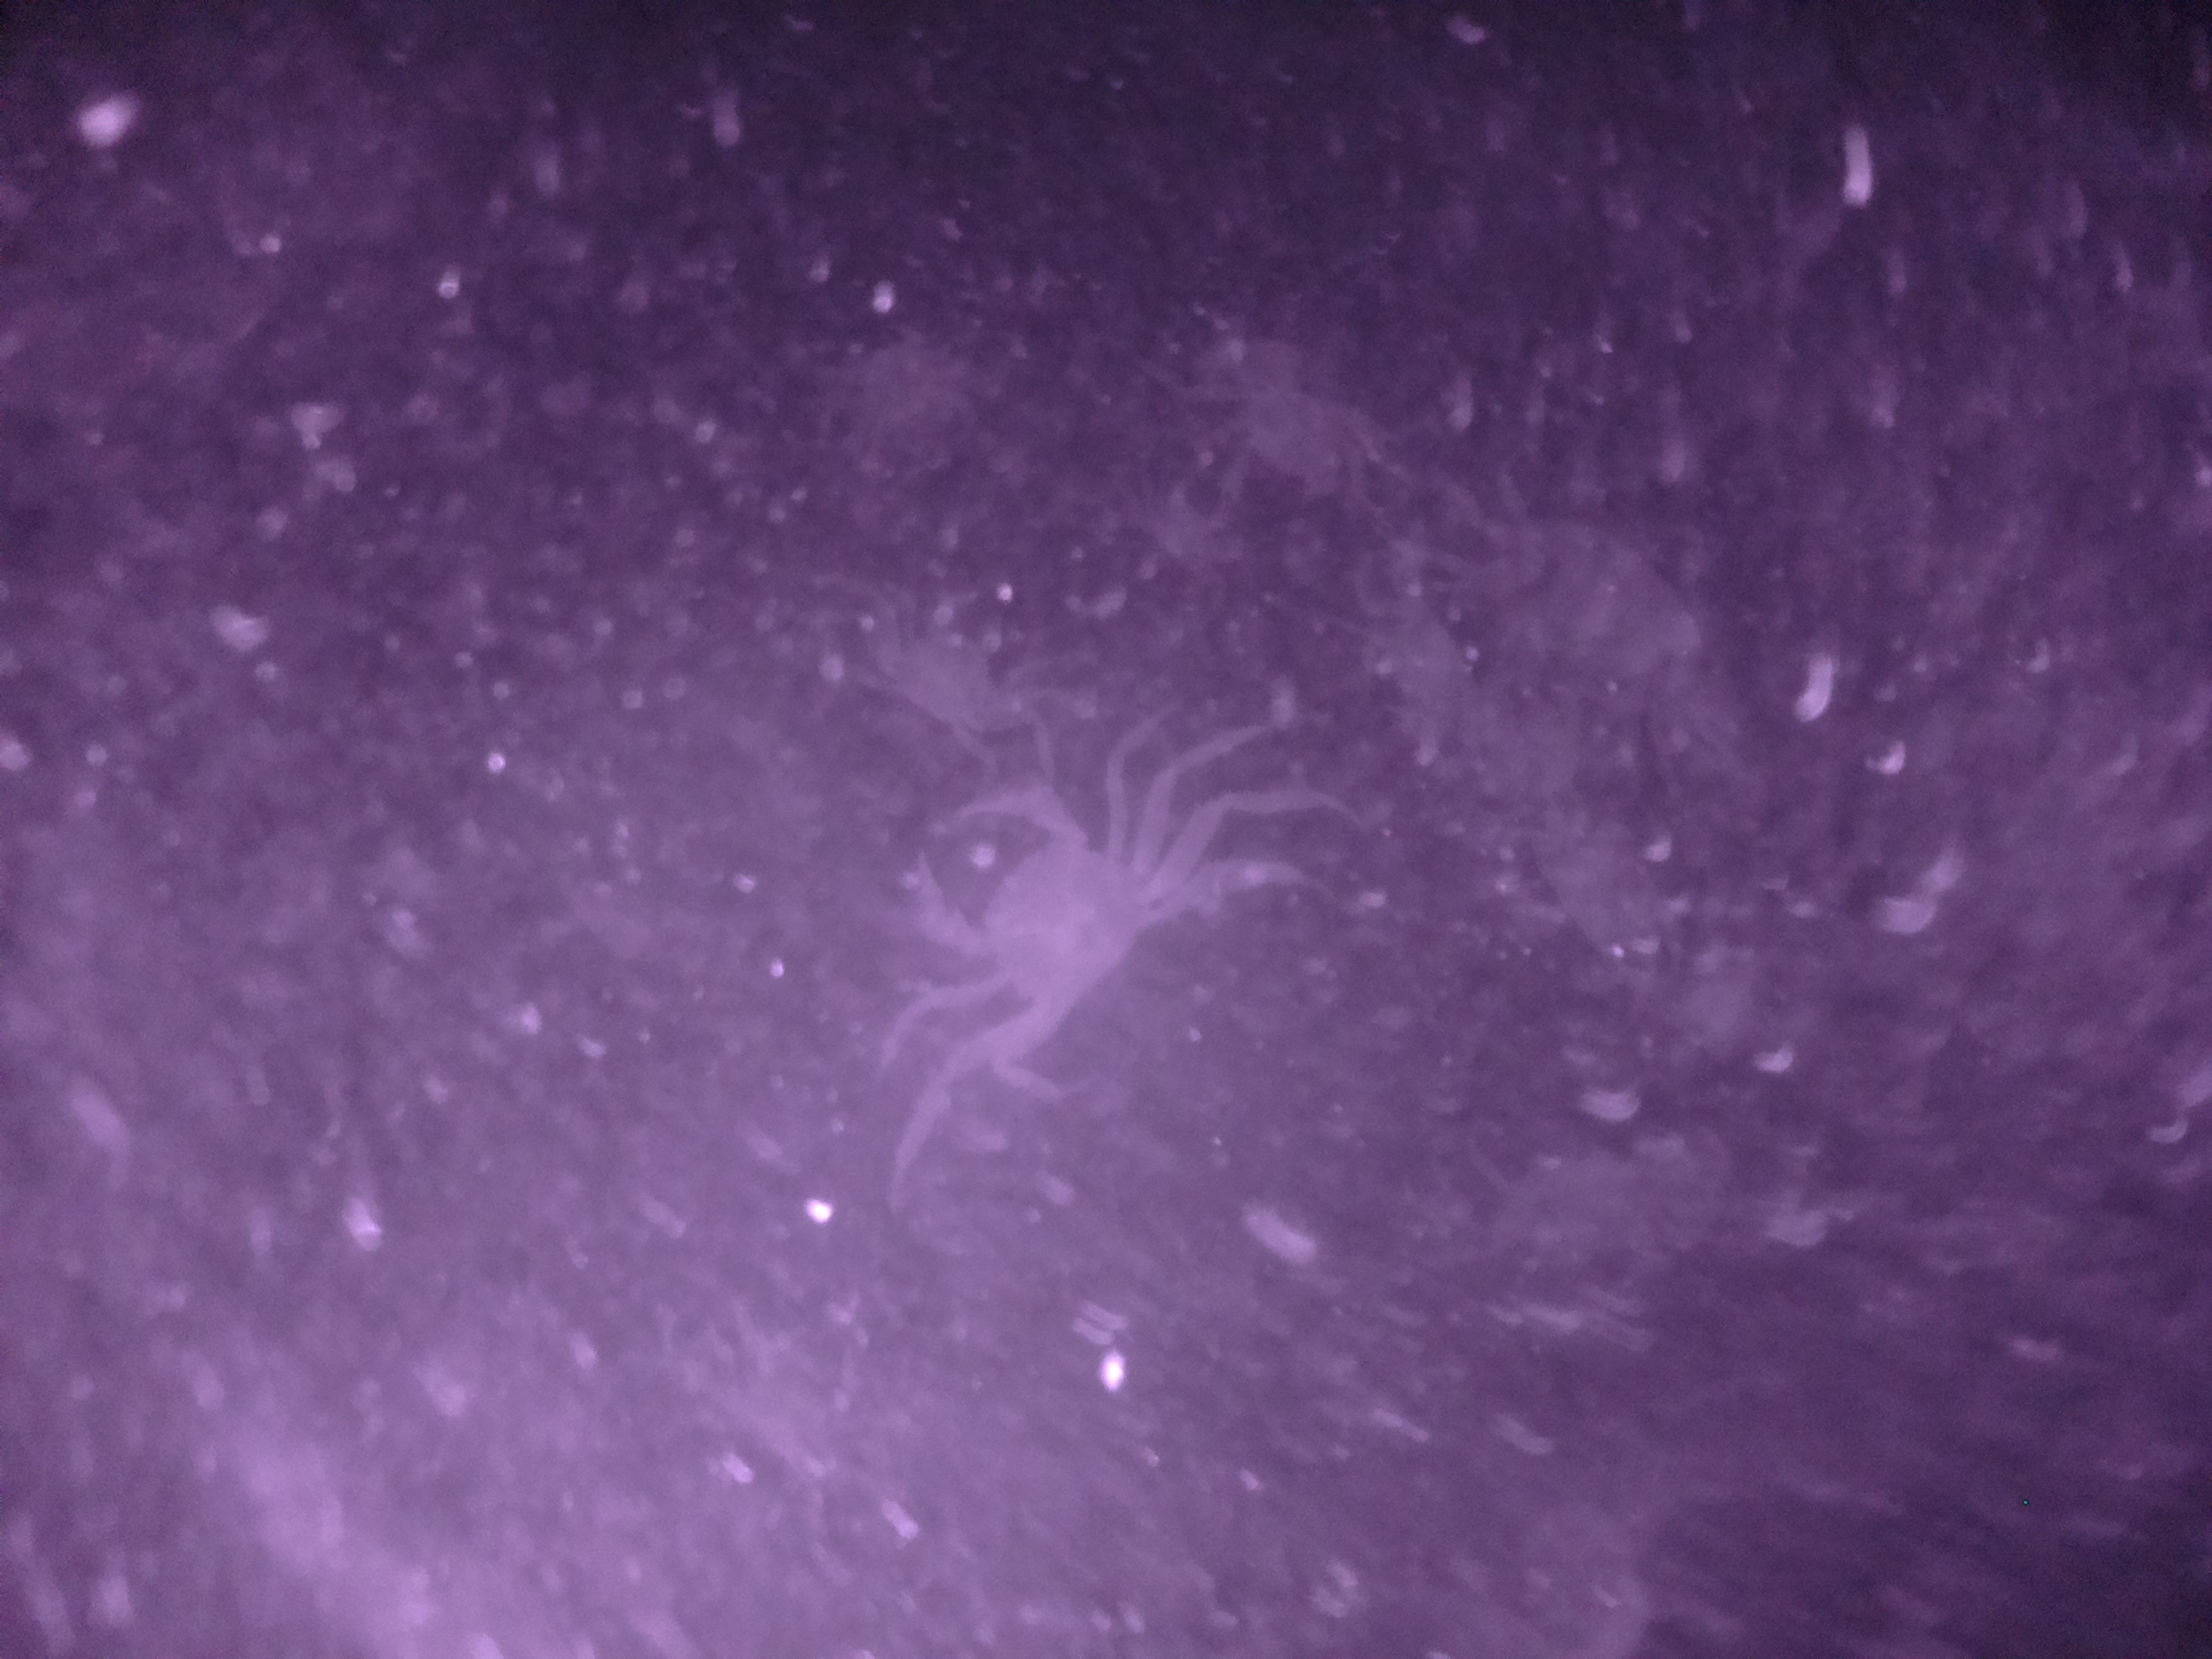Crab: (888, 769, 1170, 1054), (827, 575, 1073, 763), (1186, 352, 1406, 519)
